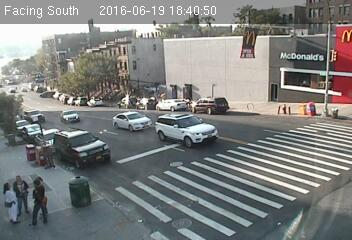neg: (15, 127, 43, 164), (36, 139, 56, 166), (9, 128, 25, 149), (11, 109, 25, 127)
pos: (20, 178, 57, 227), (11, 168, 33, 198)
